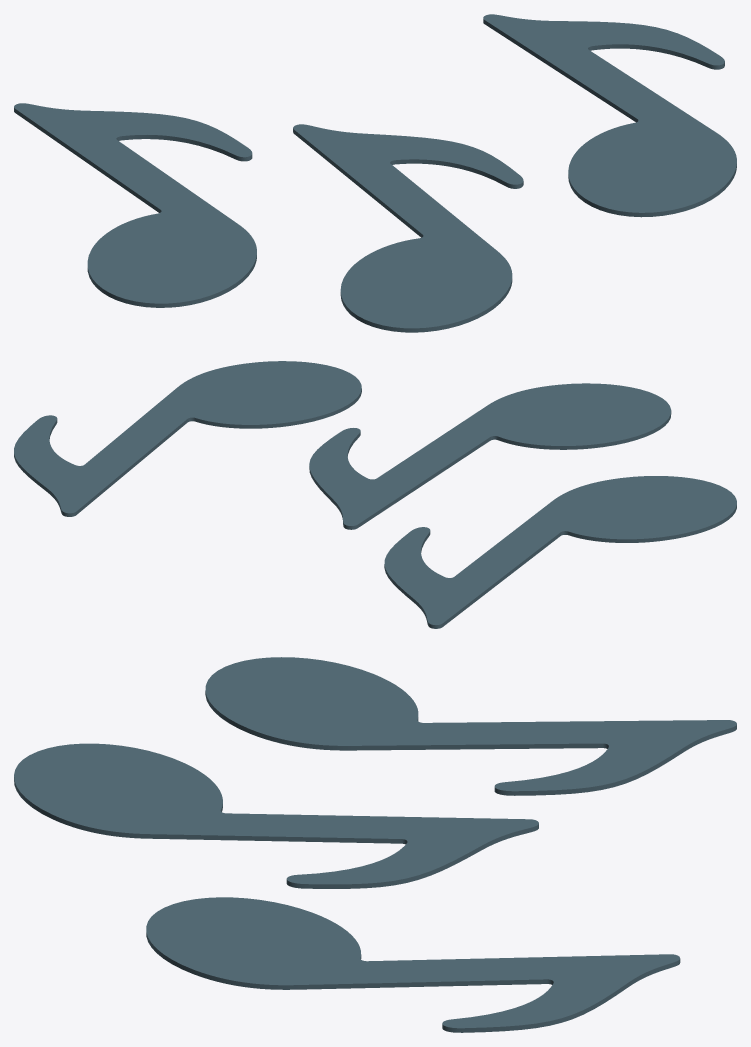
File: emoji_u1f3b6.glb
3 views of the same model, one above another, from view 1: azimuth 30°, elevation 25°; view 2: azimuth 150°, elevation 25°; view 3: azimuth 270°, elevation 25° (orthographic). The views are drawn at different scales.
Visible parts, largest first — view 1: emoji_u1f3b6; view 2: emoji_u1f3b6; view 3: emoji_u1f3b6.
Part boxes in pixels (x1,y1,x2,y2): emoji_u1f3b6: (14,14,736,332); emoji_u1f3b6: (14,361,736,628); emoji_u1f3b6: (14,657,736,1032).
Size of the model in its own units: 0.0345 by 0.0002 by 0.0284.
